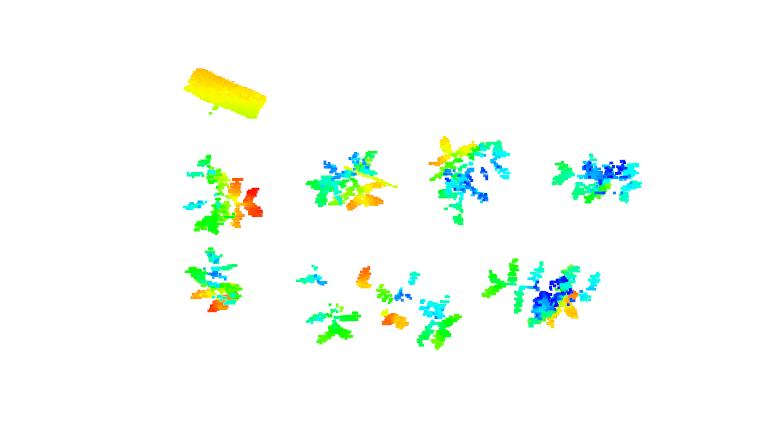chickpea: (484, 256, 603, 330), (353, 267, 456, 351), (426, 136, 513, 227), (184, 152, 267, 237), (305, 148, 396, 212), (548, 153, 643, 207), (298, 264, 358, 345), (181, 244, 246, 314)
